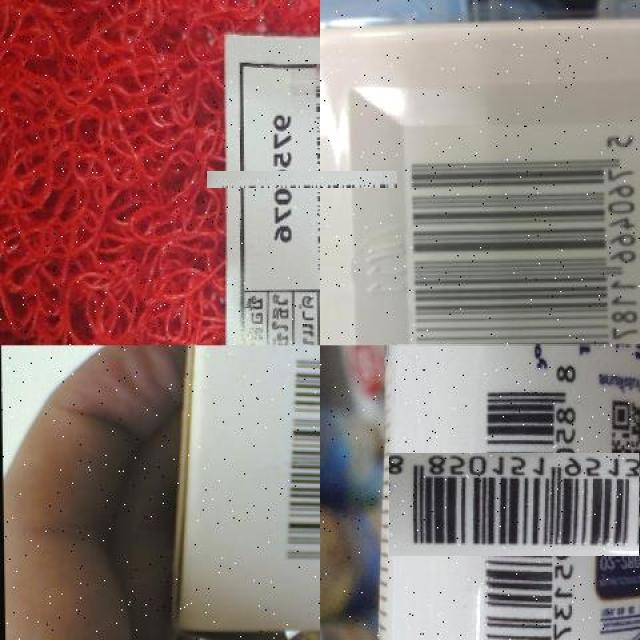Barcode: (397, 126, 640, 346), (432, 410, 620, 598), (259, 345, 320, 584), (255, 123, 368, 237)
